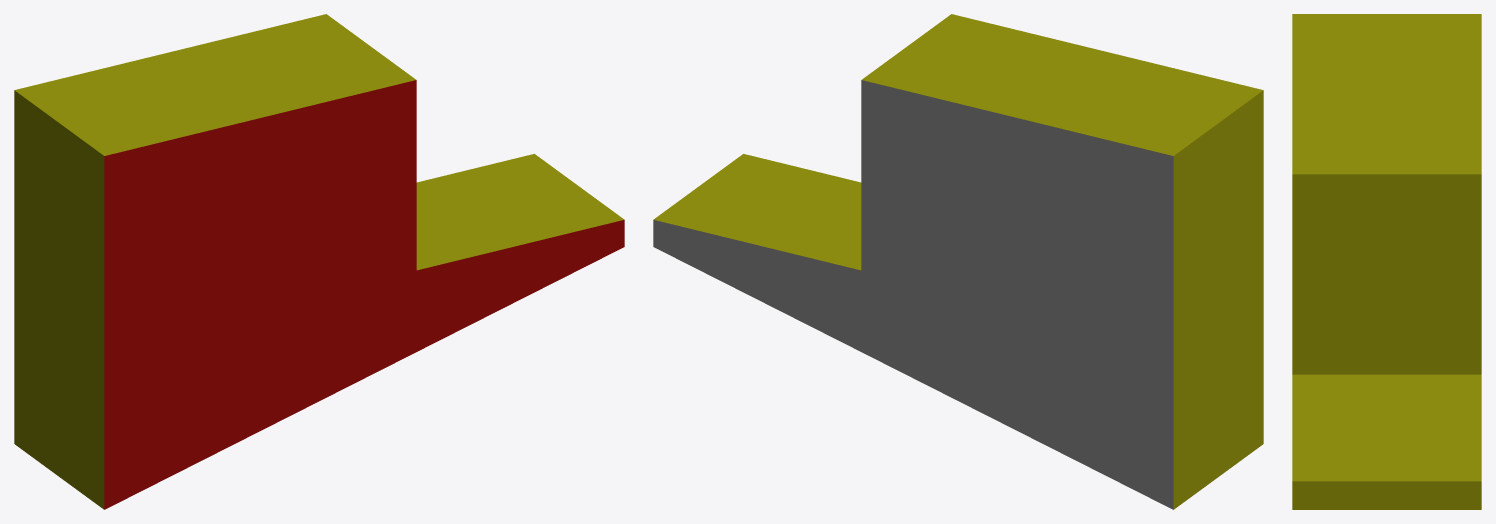
The model's file is test_CCE.03.obj.
3 renders of one model, left to right at view 1: azimuth 30°, elevation 25°; view 2: azimuth 150°, elevation 25°; view 3: azimuth 270°, elevation 25°, orthographic. The views are drawn at different scales.
Size of the model in its own units: 10 by 6.5 by 3.
